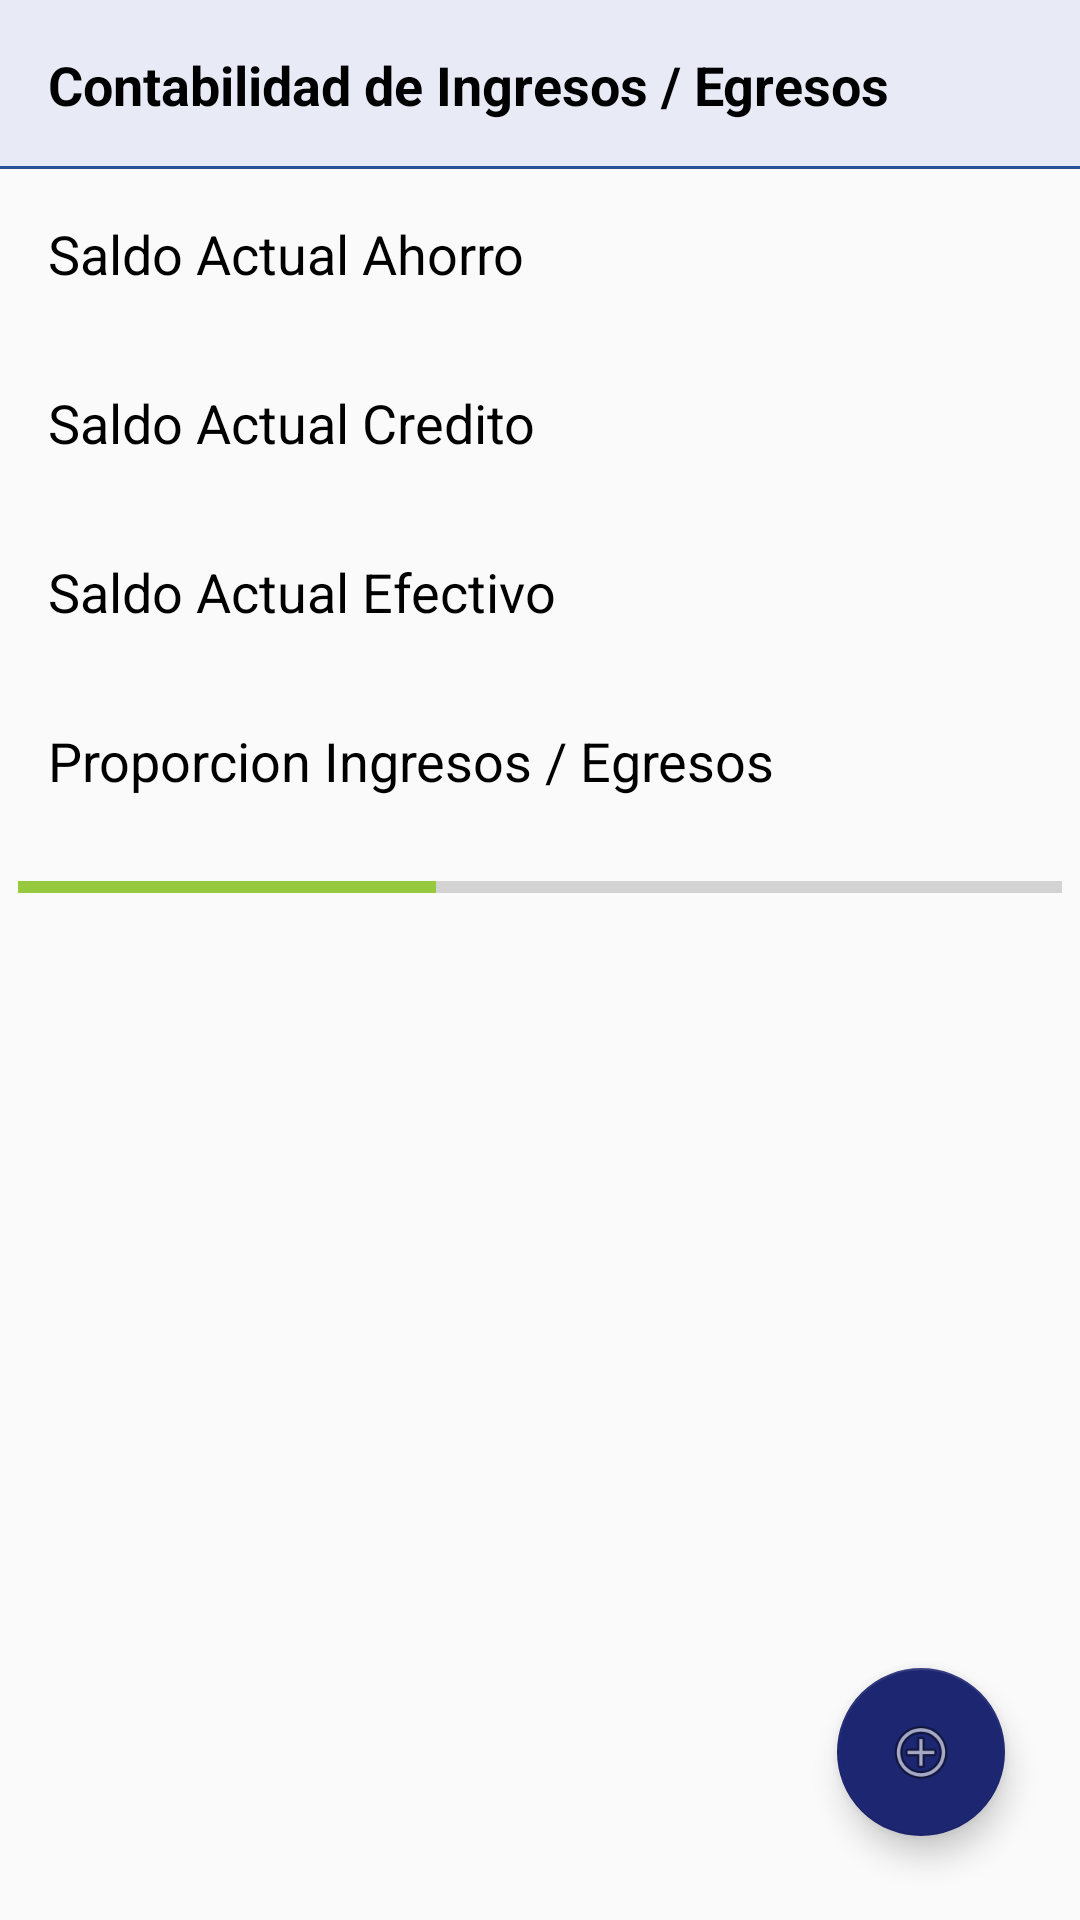

Where icons sit on this 1080 x 1920 app screen, as (x1, y1, x2, y2):
add: (837, 1668, 1005, 1836)
